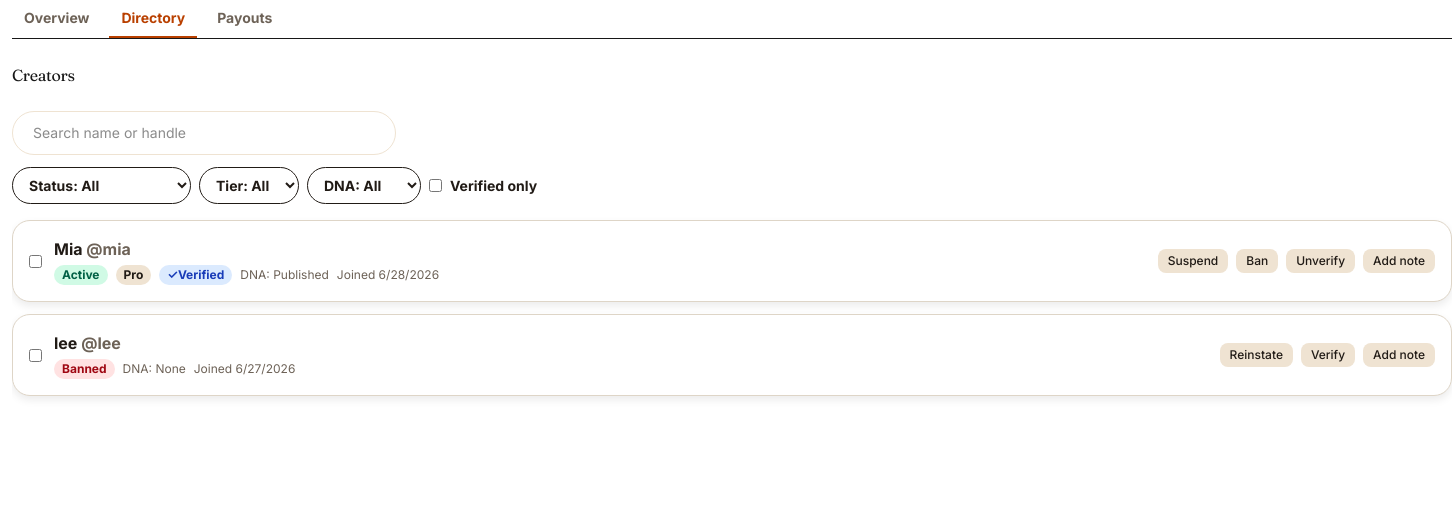
Test: CreatorsDirectoryView › surfaces a bulk action failure instead of swallowing it
Click the checkbox named "Select Mia" at (36, 261), box x1=29 y1=254 x2=42 y2=268
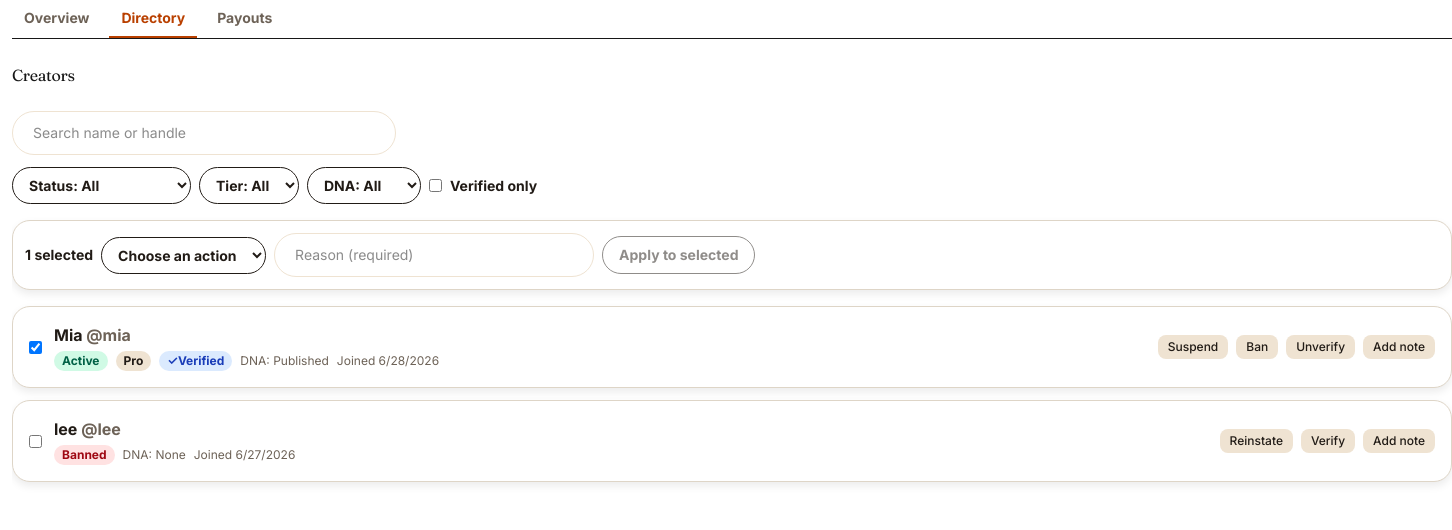
Select "Ban" in the dropdown with test id "bulk-action-select" at (184, 255), box x1=101 y1=236 x2=266 y2=274
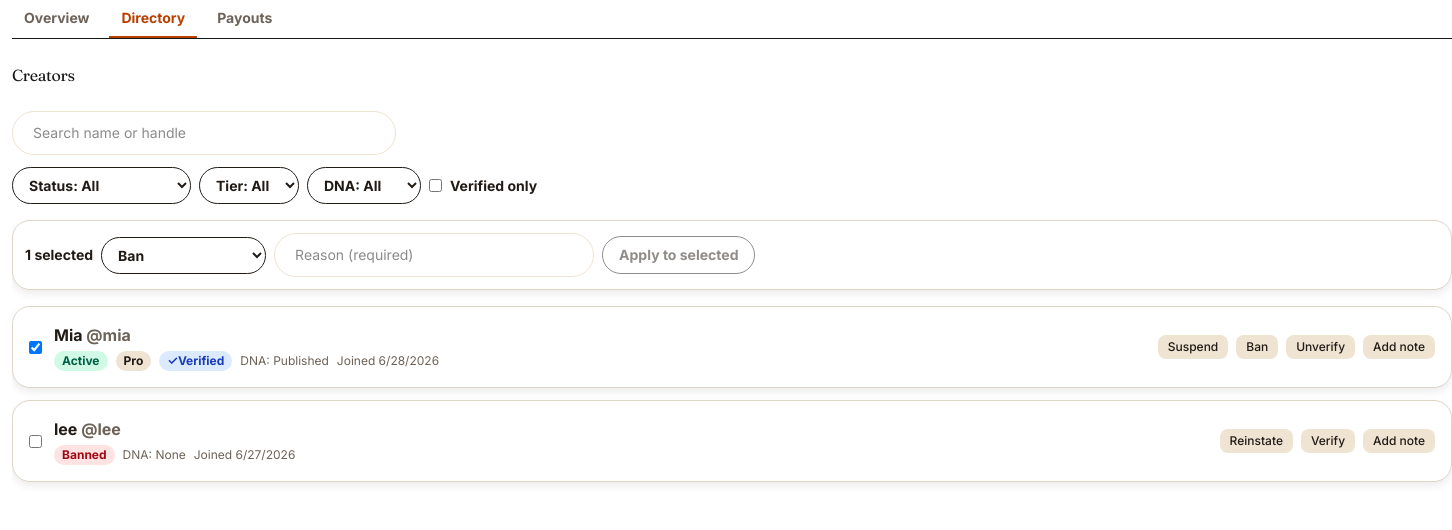
Type "cleanup" into the field with test id "bulk-reason" at (434, 255), box x1=274 y1=233 x2=594 y2=277
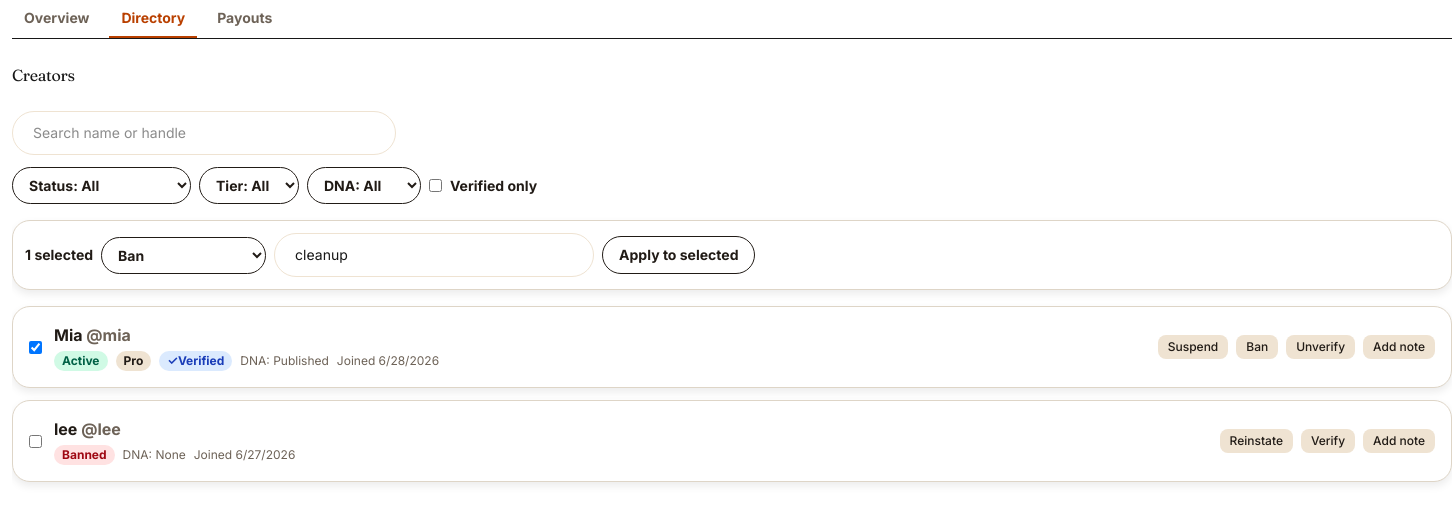
Click the button "Apply to selected" at (679, 255), box x1=602 y1=236 x2=756 y2=274
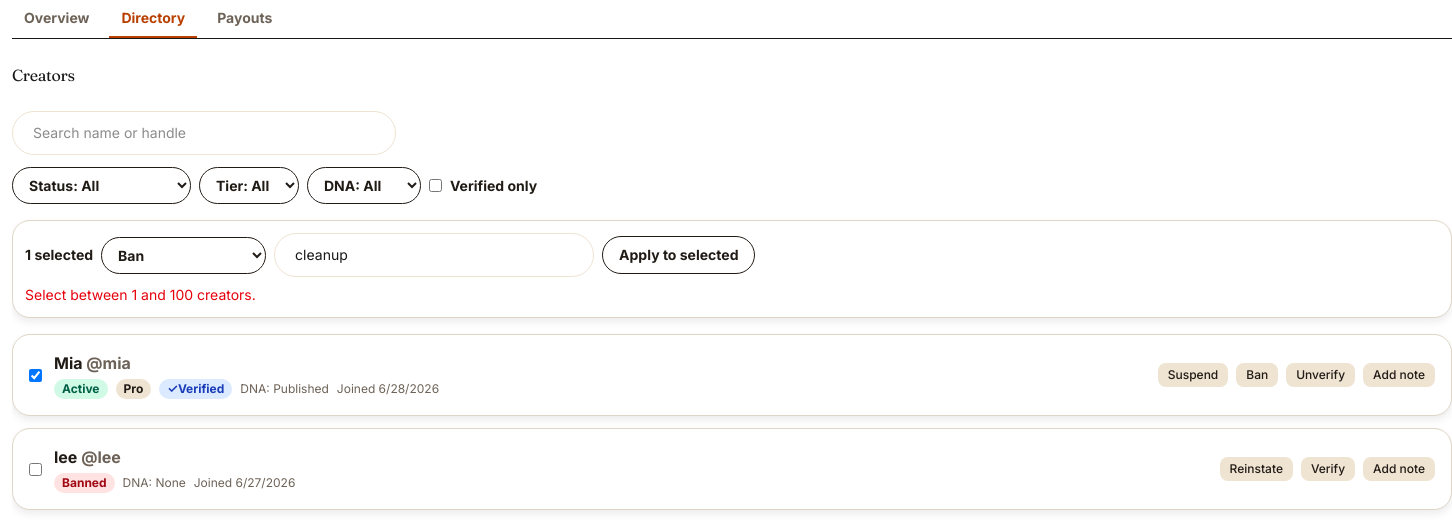
Now the text "Select between 1 and 100 creators." is shown, box x1=25 y1=286 x2=256 y2=303
